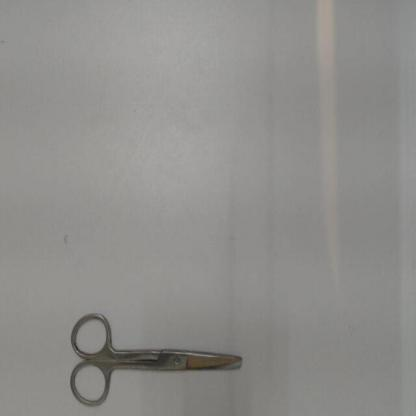Dressing Scissors: (59, 298, 249, 413)
